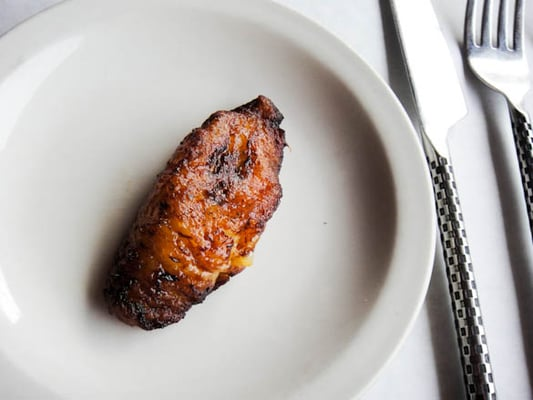burger: (376, 0, 508, 397), (461, 0, 533, 387)
